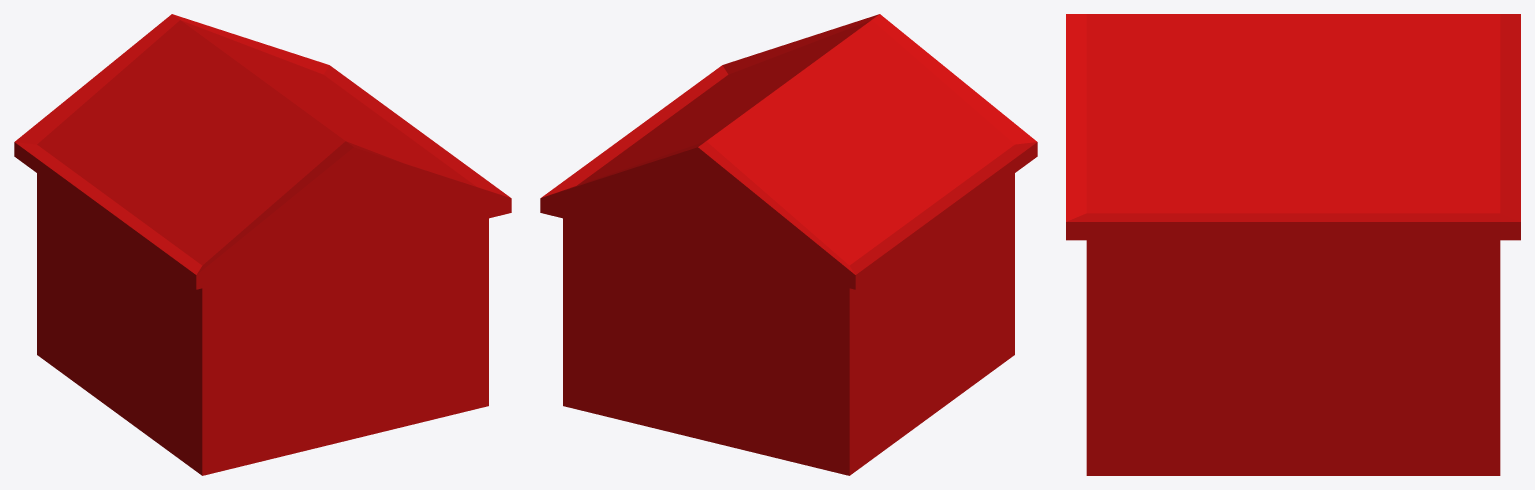
Rendered from Lownopoly Hotel.fbx.
3 views of the same model, side by side, from view 1: azimuth 30°, elevation 25°; view 2: azimuth 150°, elevation 25°; view 3: azimuth 270°, elevation 25° (orthographic). The views are drawn at different scales.
Parts seen in each view (by area): view 1: Lownopoly Hotel; view 2: Lownopoly Hotel; view 3: Lownopoly Hotel.
Part boxes in pixels (x1,y1,x2,y2): Lownopoly Hotel: (14, 14, 511, 475); Lownopoly Hotel: (540, 14, 1037, 475); Lownopoly Hotel: (1066, 14, 1520, 475).
Size of the model in its own units: 22.18 by 22.18 by 20.16.
